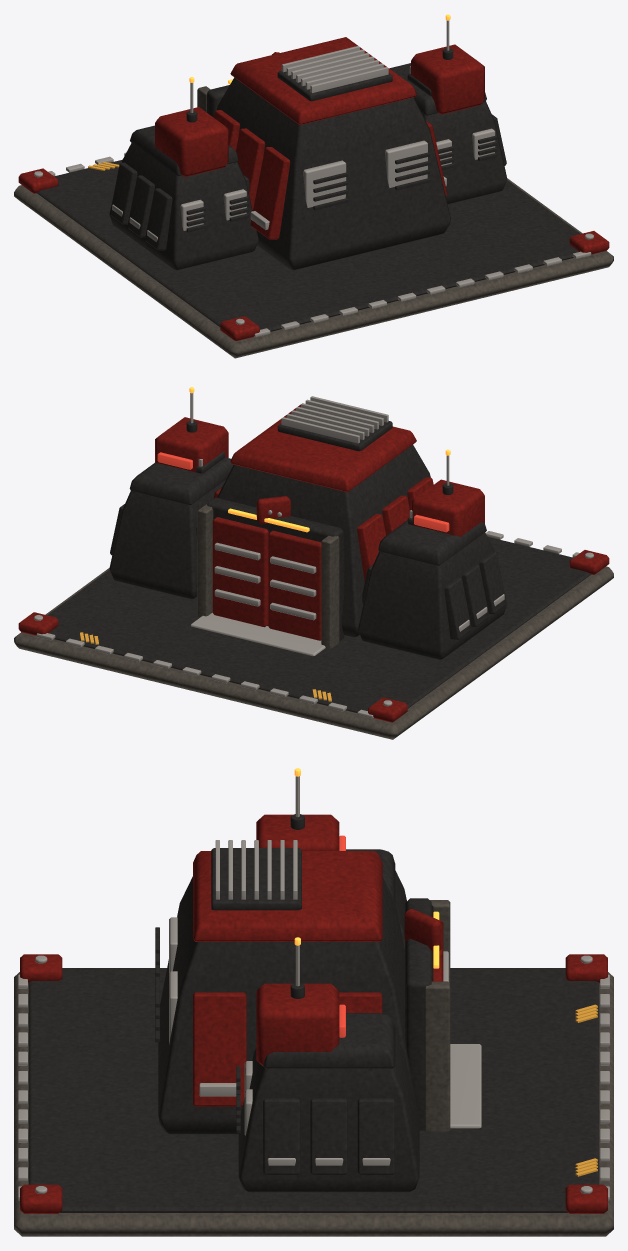
File: kharn_forteresse_de_commandement.gltf
3 renders of one model, top to bottom at view 1: azimuth 30°, elevation 25°; view 2: azimuth 150°, elevation 25°; view 3: azimuth 270°, elevation 25°, orthographic. The views are drawn at different scales.
Visible parts, largest first — view 1: Root_Geometry; view 2: Root_Geometry, Door_R_Geometry, Door_L_Geometry; view 3: Root_Geometry.
Boxes of the visible parts, x1,y1,x2,y2 form: Root_Geometry: (14,14,613,358); Root_Geometry: (14,387,613,739); Door_R_Geometry: (212,517,268,627); Door_L_Geometry: (268,530,321,640); Root_Geometry: (14,768,613,1236).
Bounding box in the file's own units: 5.94 × 2.83 × 5.94.
Materials: 7 (3 with a texture image).
